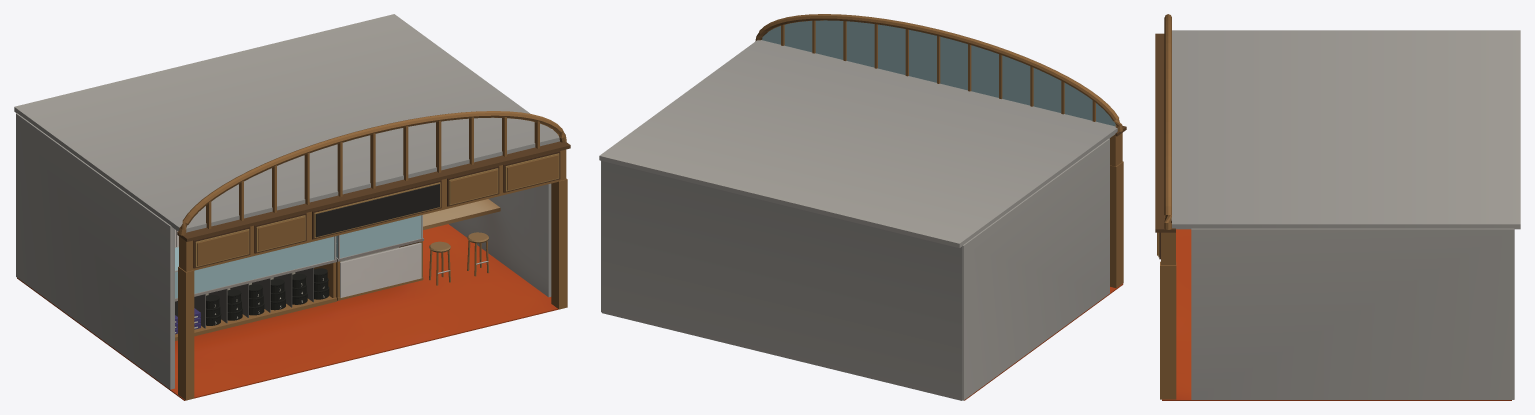
The model's file is biscuiterie.glb.
The picture shows the model from 3 angles, left to right: view 1: azimuth 30°, elevation 25°; view 2: azimuth 150°, elevation 25°; view 3: azimuth 270°, elevation 25°; orthographic projection. The views are drawn at different scales.
Parts seen in each view (by area): view 1: BiscuiterieBody, Glass; view 2: BiscuiterieBody, Glass; view 3: BiscuiterieBody.
Part boxes in pixels (x1=…): BiscuiterieBody: x1=14, y1=14, x2=570, y2=400; Glass: x1=175, y1=215, x2=421, y2=298; BiscuiterieBody: x1=599, y1=14, x2=1126, y2=400; Glass: x1=762, y1=20, x2=1115, y2=126; BiscuiterieBody: x1=1155, y1=14, x2=1520, y2=400.
Size of the model in its own units: 7.72 by 4.28 by 6.03.
